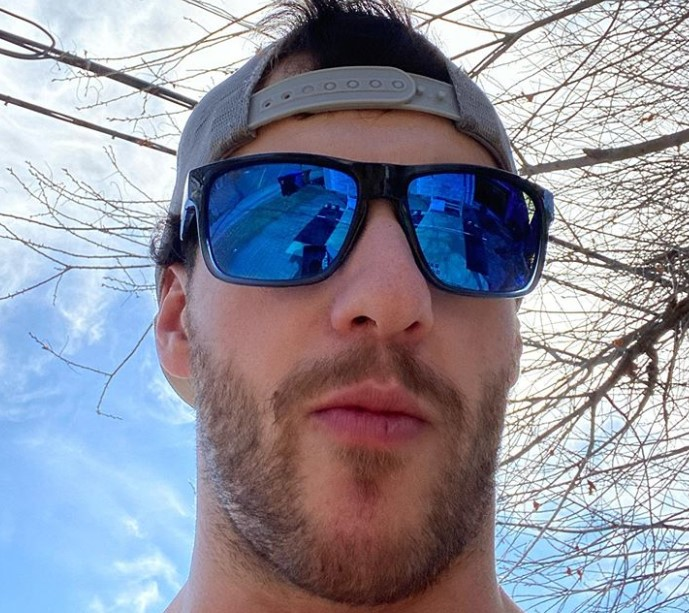face_no_mask: (172, 29, 528, 598)
